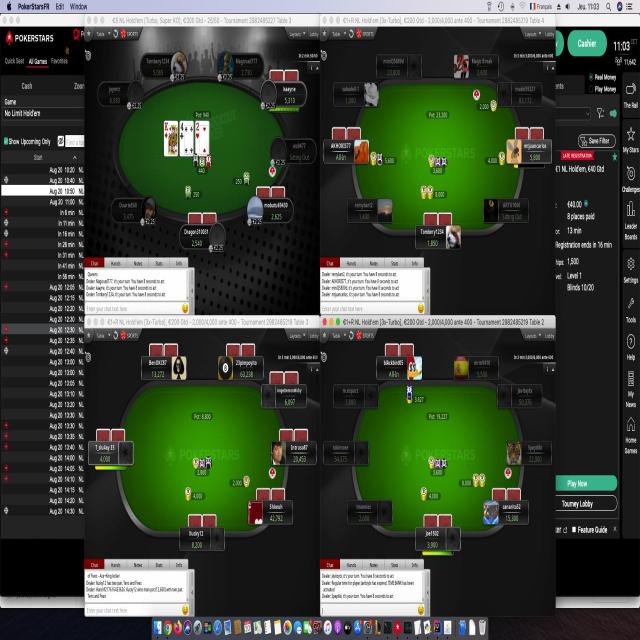2H: (194, 119, 202, 141)
4C: (178, 119, 186, 142)
KD: (162, 120, 168, 142)
